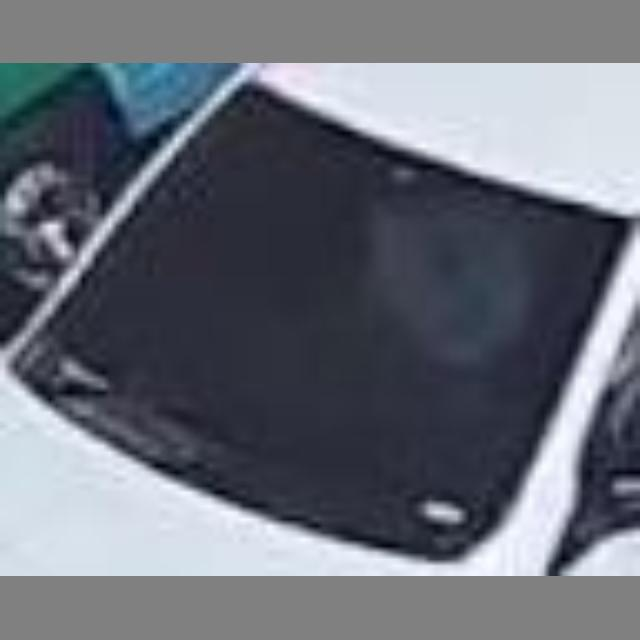tidak-pakai: (313, 176, 540, 383)
